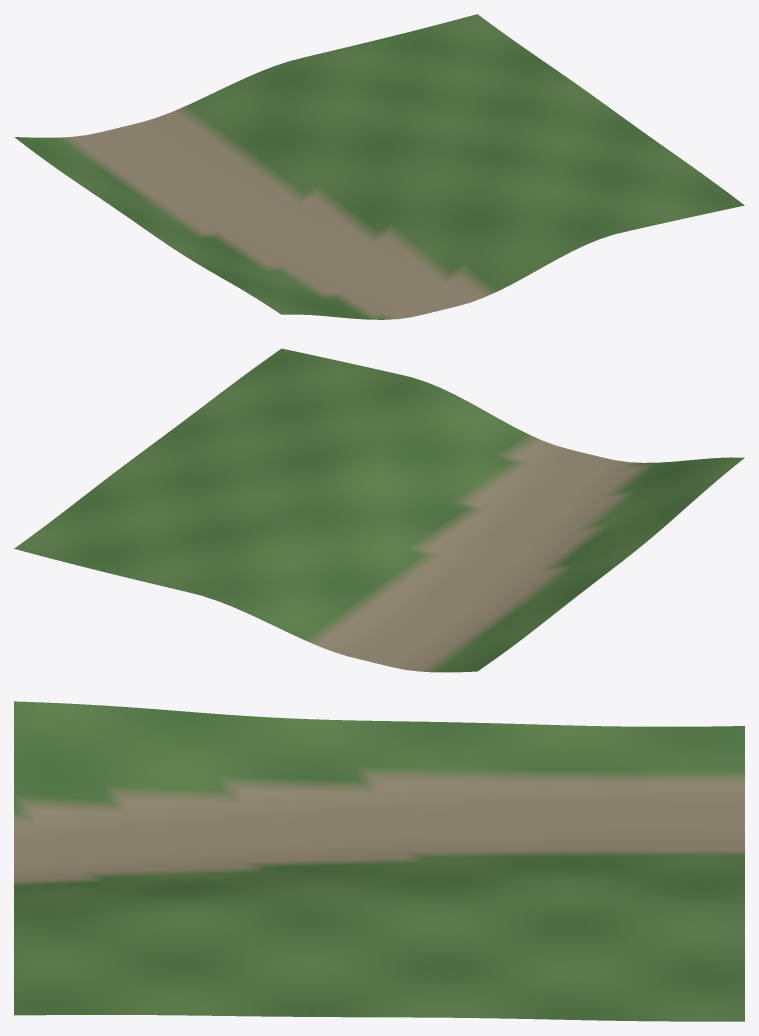
Rendered from chunk_5_9.glb.
3 renders of one model, top to bottom at view 1: azimuth 30°, elevation 25°; view 2: azimuth 150°, elevation 25°; view 3: azimuth 270°, elevation 25°, orthographic. The views are drawn at different scales.
Size of the model in its own units: 512 by 36.35 by 512.
